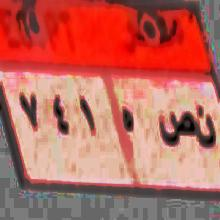1: (76, 93, 98, 146)
4: (52, 92, 72, 147)
7: (18, 82, 39, 140)
haa: (119, 104, 136, 137)
noon: (195, 105, 216, 156)
saad: (159, 103, 194, 152)
